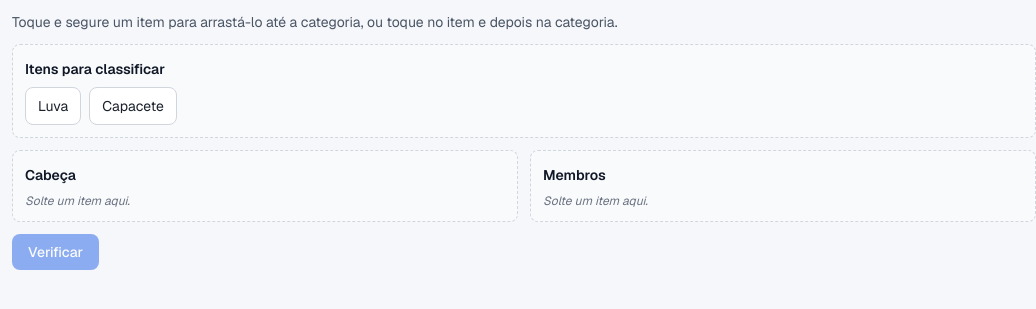
it: categorization › accepts more than one item per category and scores the result
Click the button "Capacete" at x=133, y=106, box [89,87,177,125]
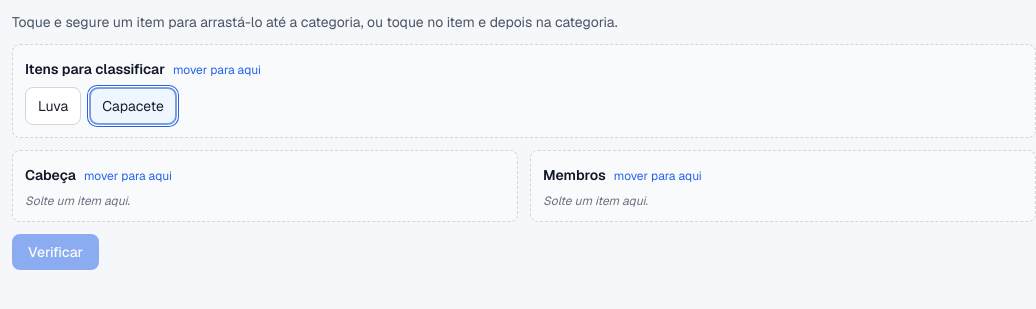
Click the button "Cabeça" at x=50, y=175, box [25,165,505,185]
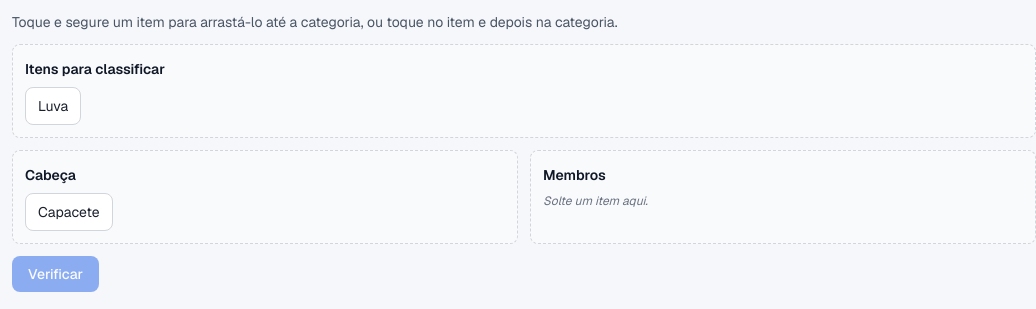
Click the button "Luva" at x=53, y=106, box [25,87,81,125]
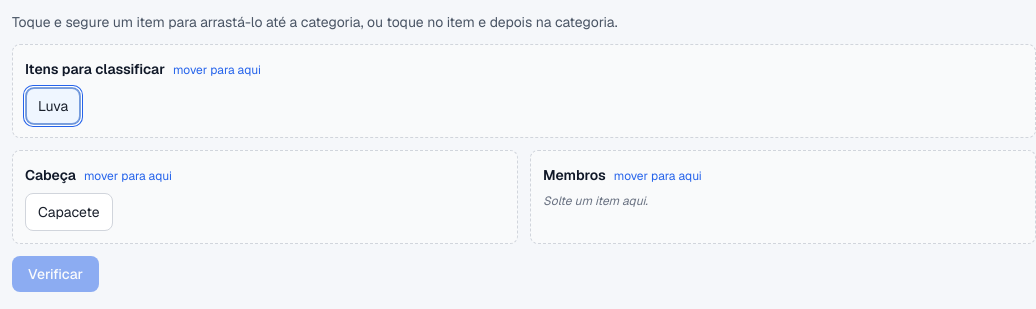
Click the button "Membros" at x=574, y=175, box [543,165,1023,185]
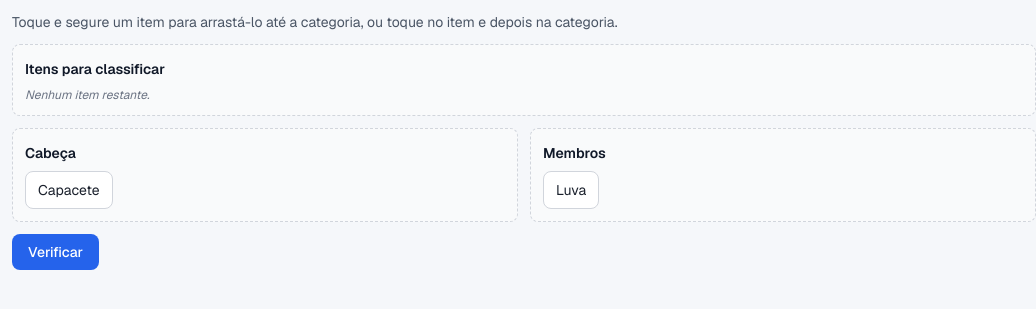
Click the button "Verificar" at x=56, y=252, box [12,234,99,270]
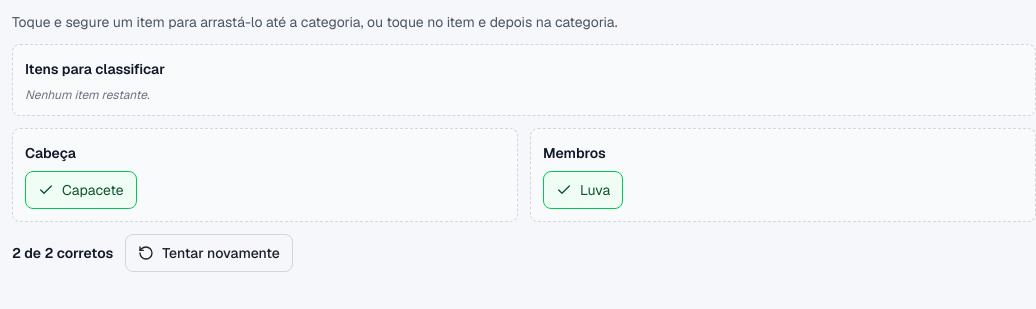
Now the text "2 de 2 corretos" is shown, box [12,243,113,263]
